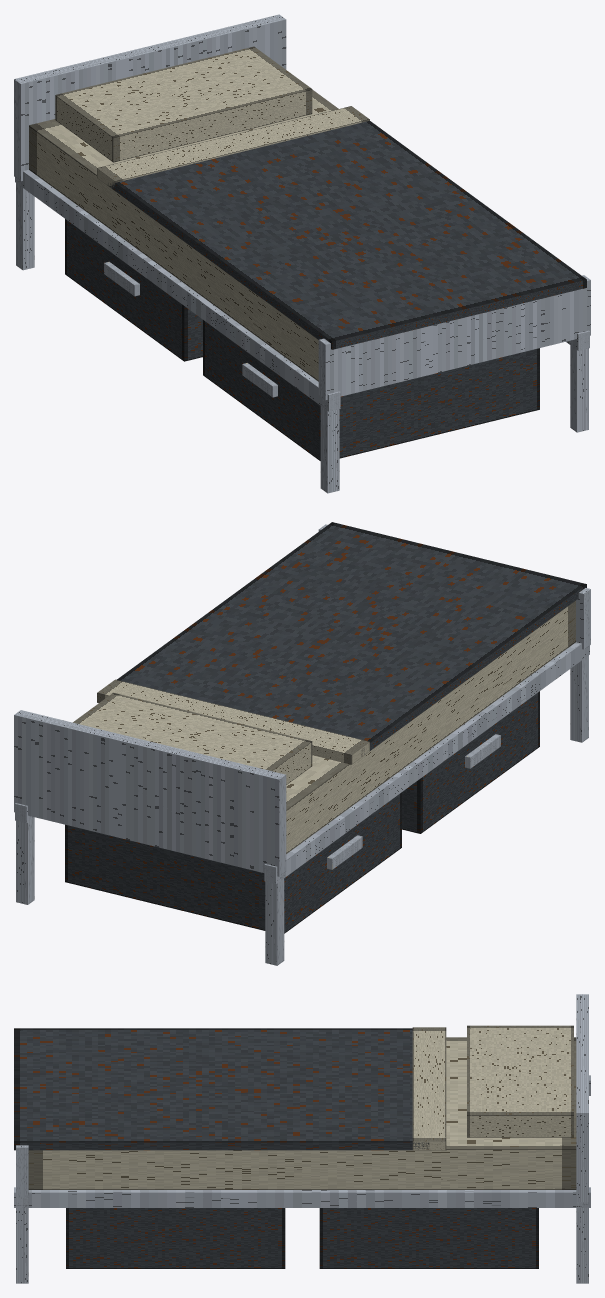
Rendered from crew_bed.glb.
3 views of the same model, one above another, from view 1: azimuth 30°, elevation 25°; view 2: azimuth 150°, elevation 25°; view 3: azimuth 270°, elevation 25° (orthographic). The views are drawn at different scales.
Parts seen in each view (by area): view 1: bn_crew_bed_sample; view 2: bn_crew_bed_sample; view 3: bn_crew_bed_sample.
Part boxes in pixels (bbox=[...]): bn_crew_bed_sample: bbox=[14, 14, 590, 493]; bn_crew_bed_sample: bbox=[14, 522, 590, 965]; bn_crew_bed_sample: bbox=[14, 994, 590, 1283].
Bounding box in the file's own units: 1 × 0.6725 × 2.05.
5 materials, 5 textured.
